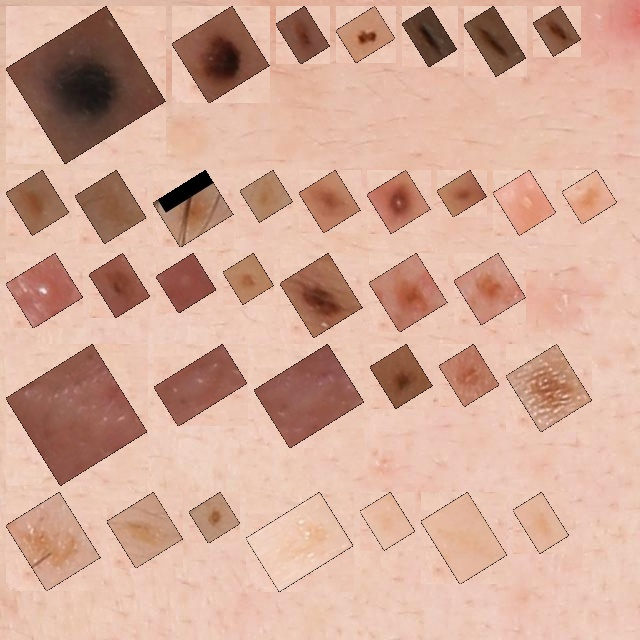hypertrophic_scar: (17, 355, 136, 474), (265, 355, 353, 437), (165, 355, 236, 415)
melasma: (257, 503, 342, 581), (17, 503, 89, 580), (432, 503, 496, 573), (164, 181, 222, 236), (118, 503, 172, 557), (86, 181, 135, 232), (17, 181, 58, 224), (524, 503, 558, 542), (371, 503, 404, 539), (251, 181, 282, 211), (234, 264, 263, 293)
nevus: (17, 17, 154, 152), (183, 17, 258, 92), (517, 355, 581, 421), (291, 264, 351, 326), (380, 264, 436, 321), (465, 264, 515, 314), (475, 17, 515, 65), (378, 181, 419, 222), (381, 355, 421, 397), (100, 264, 139, 306), (310, 181, 349, 222), (450, 355, 488, 395), (347, 17, 384, 52), (413, 17, 446, 56), (200, 503, 229, 532), (544, 17, 570, 45)
pustule: (17, 264, 72, 317), (504, 181, 545, 224), (167, 264, 205, 302)
